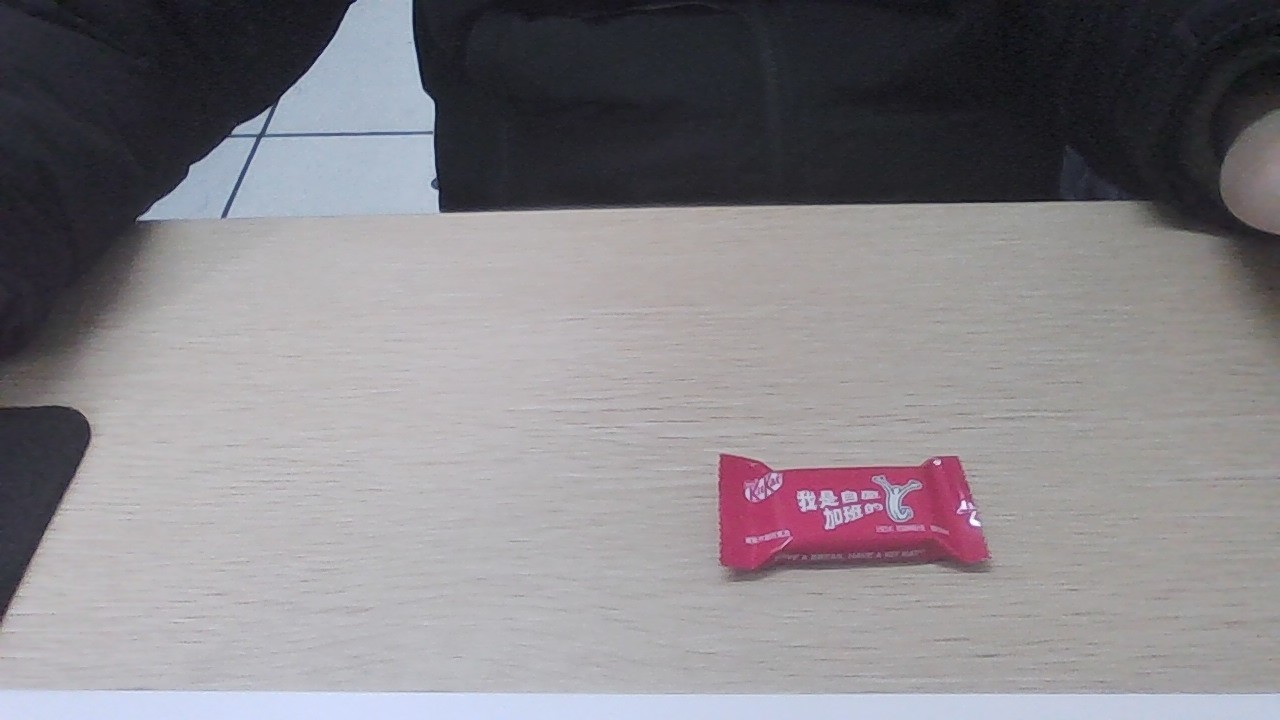CY-chocolate: (720, 457, 980, 571)
